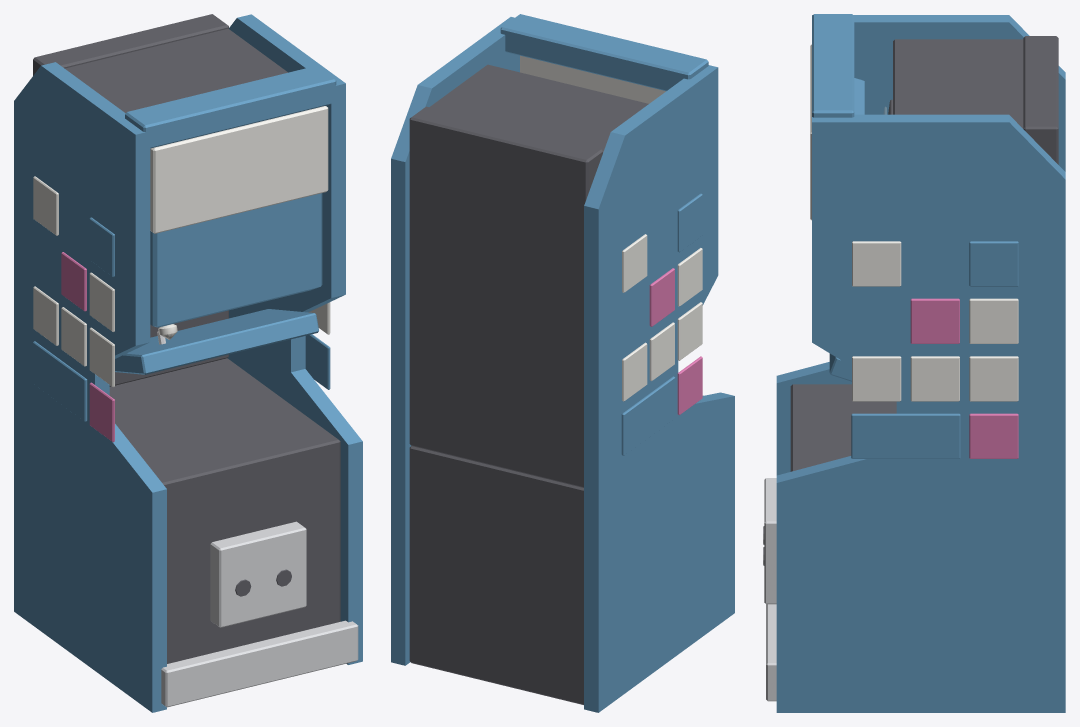
The model's file is amusement-arcade-and-seaside-pier-arcade-cabinet-blue-dcc5743f__35404.glb.
The picture shows the model from 3 angles, left to right: view 1: azimuth 30°, elevation 25°; view 2: azimuth 150°, elevation 25°; view 3: azimuth 270°, elevation 25°; orthographic projection. The views are drawn at different scales.
Visible parts, largest first — view 1: arcade-cabinet-blue; view 2: arcade-cabinet-blue; view 3: arcade-cabinet-blue.
Part boxes in pixels (x1=…): arcade-cabinet-blue: x1=14, y1=14, x2=362, y2=712; arcade-cabinet-blue: x1=391, y1=14, x2=734, y2=712; arcade-cabinet-blue: x1=763, y1=14, x2=1065, y2=712.
Size of the model in its own units: 0.7461 by 1.87 by 0.858.
